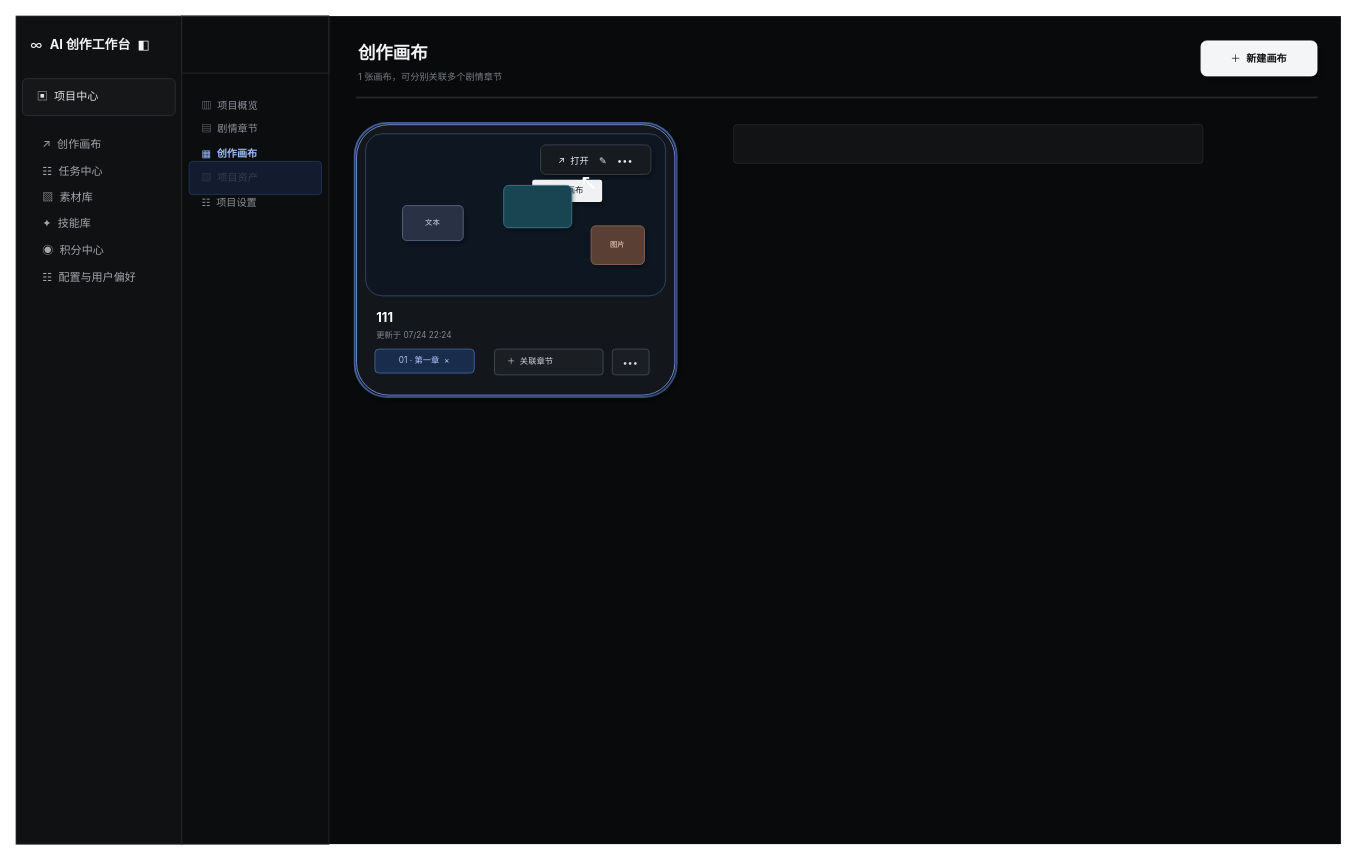
This 1357x860 diagram has some shape labels left out. Each missing label, with the centre of its shape:
"‹ ▱ 测试项目 1 ● 进行中" goes at pixel 255 44.
"分镜" goes at pixel 538 207.
"悬停反馈：卡片上移 2px，描边变亮，节点表面增强；快捷工具条 160ms 淡入，离开即消失。" goes at pixel 968 143.
